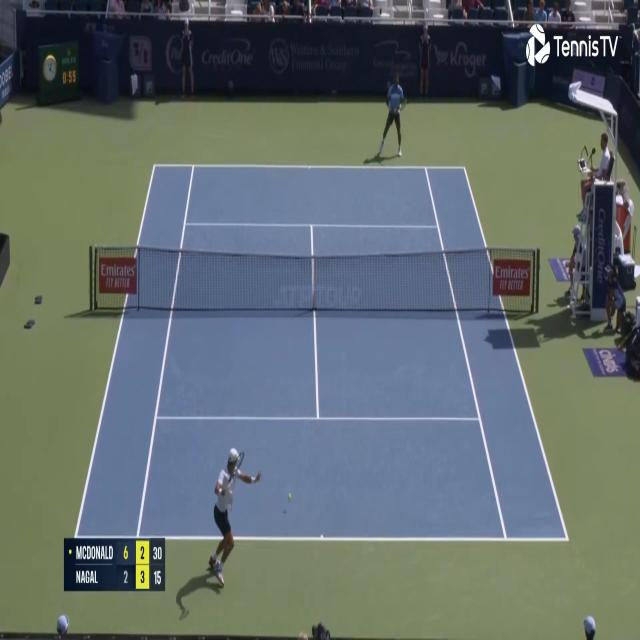tennis-player: (206, 444, 263, 590), (376, 69, 406, 160)
